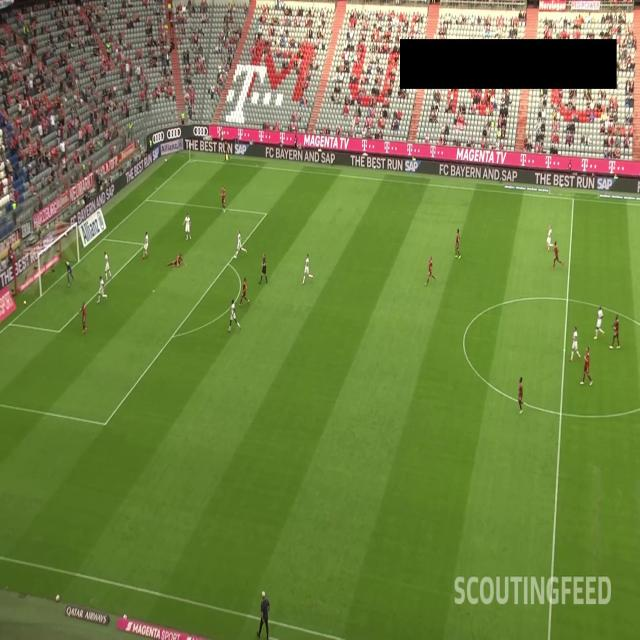ball: (23, 299, 27, 305)
player: (578, 341, 594, 387), (567, 324, 582, 362), (227, 295, 241, 333), (300, 252, 315, 286), (592, 303, 605, 340), (423, 252, 437, 286), (232, 228, 247, 259), (516, 374, 527, 416), (78, 299, 89, 335), (102, 248, 114, 281), (551, 242, 564, 272), (610, 311, 620, 349), (239, 275, 250, 309), (452, 226, 462, 261), (64, 258, 75, 289), (166, 252, 187, 268), (182, 210, 192, 240), (97, 275, 107, 304), (218, 182, 227, 213), (546, 220, 554, 253), (142, 228, 150, 260)
referee: (258, 250, 269, 284), (224, 140, 232, 162)
